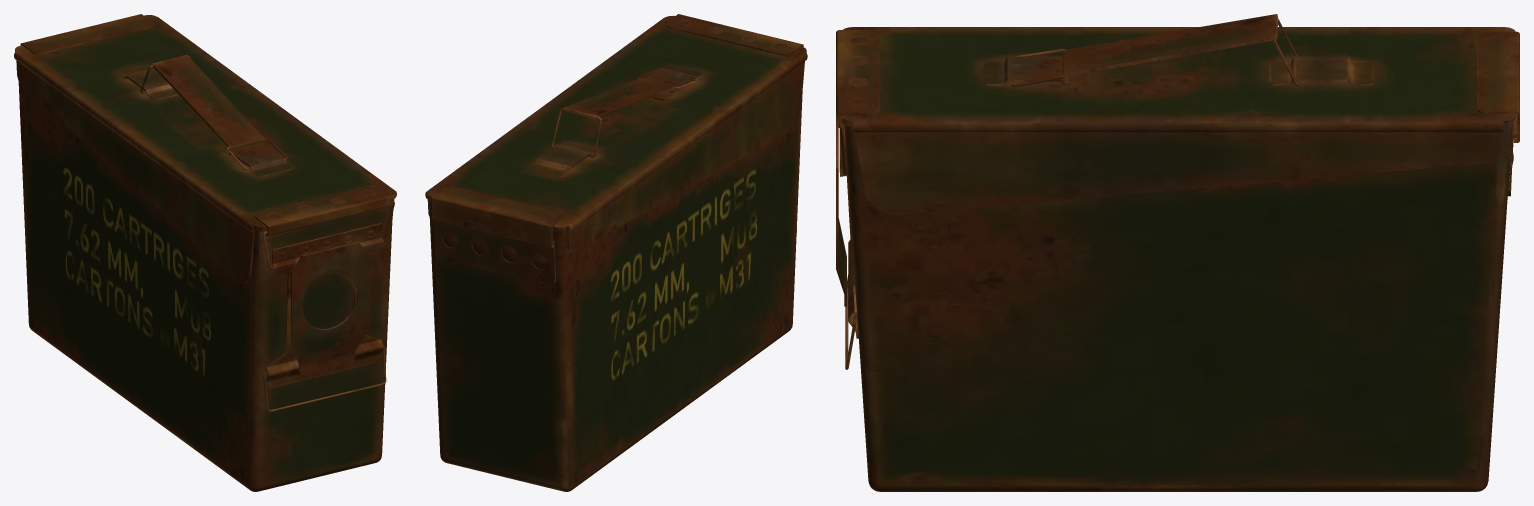
File: ammo_box.glb
3 views of the same model, side by side, from view 1: azimuth 30°, elevation 25°; view 2: azimuth 150°, elevation 25°; view 3: azimuth 270°, elevation 25° (orthographic). The views are drawn at different scales.
Visible parts, largest first — view 1: ammo_box, ammo_box_handle, ammo_box_latch; view 2: ammo_box, ammo_box_handle; view 3: ammo_box, ammo_box_handle.
Boxes of the visible parts, x1,y1,x2,y2 form: ammo_box: (14, 14, 396, 491); ammo_box_handle: (152, 54, 265, 149); ammo_box_latch: (263, 345, 386, 411); ammo_box: (425, 14, 807, 491); ammo_box_handle: (563, 78, 675, 119); ammo_box: (836, 27, 1519, 491); ammo_box_handle: (1062, 14, 1277, 76).
Size of the model in its own units: 0.0866 by 0.1775 by 0.2579.
1 material, 1 textured.
